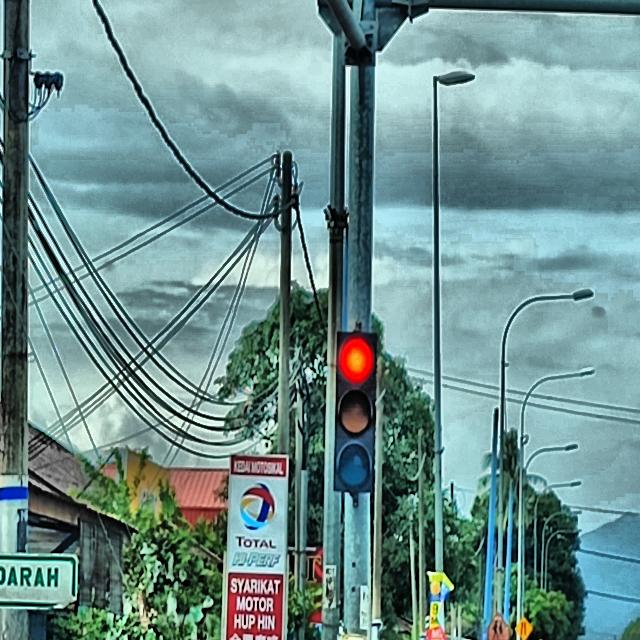red: (332, 332, 377, 492)
